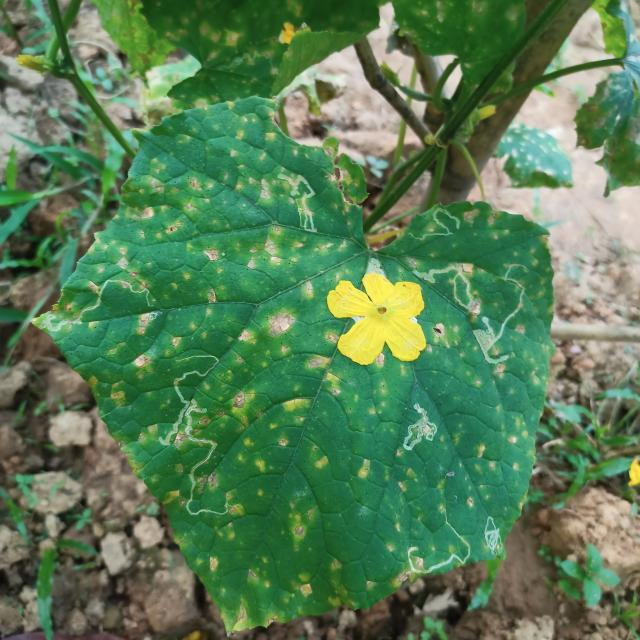disease_cucumber: (68, 132, 530, 604)
